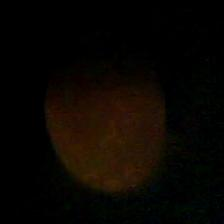fertile: (41, 38, 168, 194)
